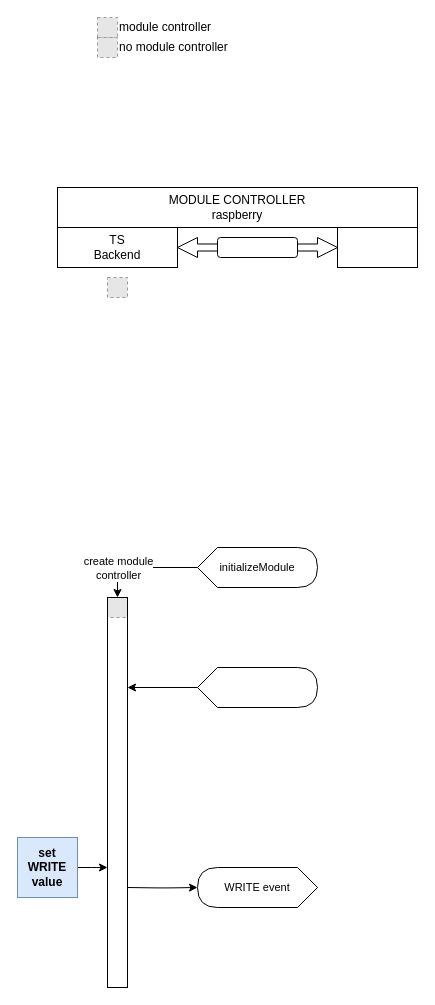
This 435x1005 diagram has some shape labels left out. Grey dashed boxes stand in for pictures. The centre of each missing label's shape, as x and y in pixels:
"C++ Backend" goes at point (377, 247).
"READ events" goes at point (257, 687).
"TCP SOCKET" goes at point (257, 247).
